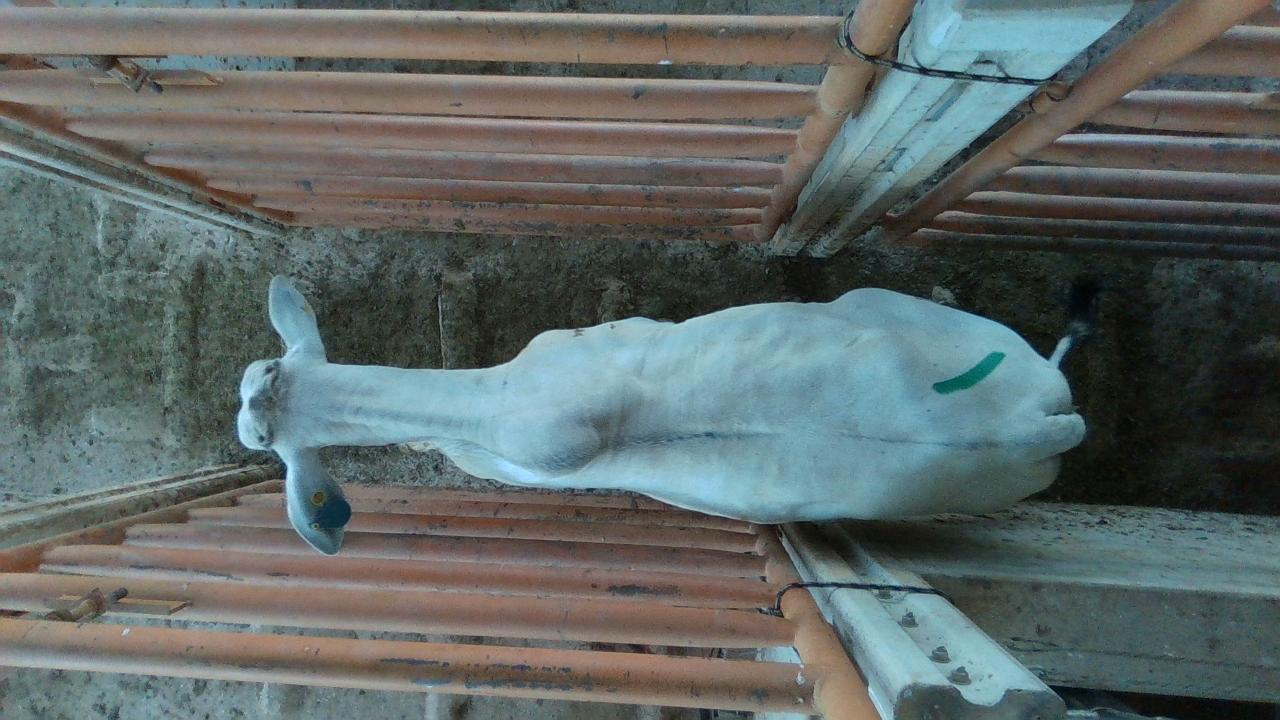cattle: (234, 272, 1097, 555)
